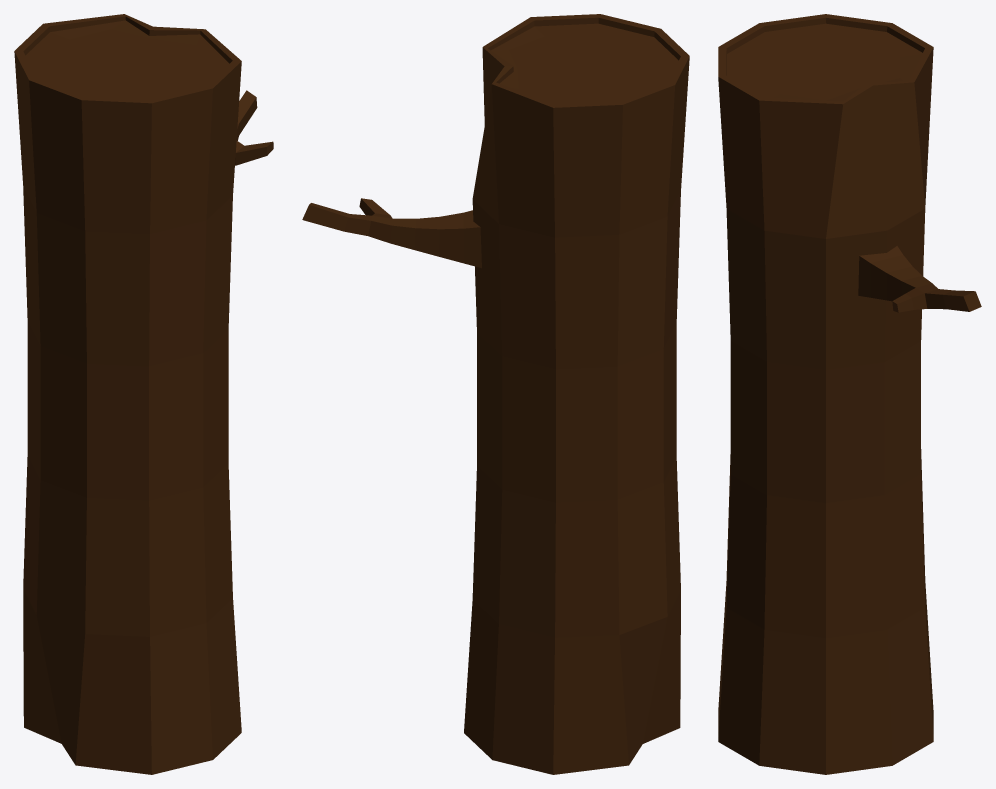
Rendered from TronkV2.fbx.
The picture shows the model from 3 angles, left to right: view 1: azimuth 30°, elevation 25°; view 2: azimuth 150°, elevation 25°; view 3: azimuth 270°, elevation 25°; orthographic projection.
Parts seen in each view (by area): view 1: TroncoVer2; view 2: TroncoVer2; view 3: TroncoVer2.
Boxes of the visible parts, x1,y1,x2,y2 form: TroncoVer2: [14, 14, 273, 774]; TroncoVer2: [302, 14, 689, 774]; TroncoVer2: [718, 14, 981, 774].
Size of the model in its own units: 15.18 by 32.4 by 11.64.
